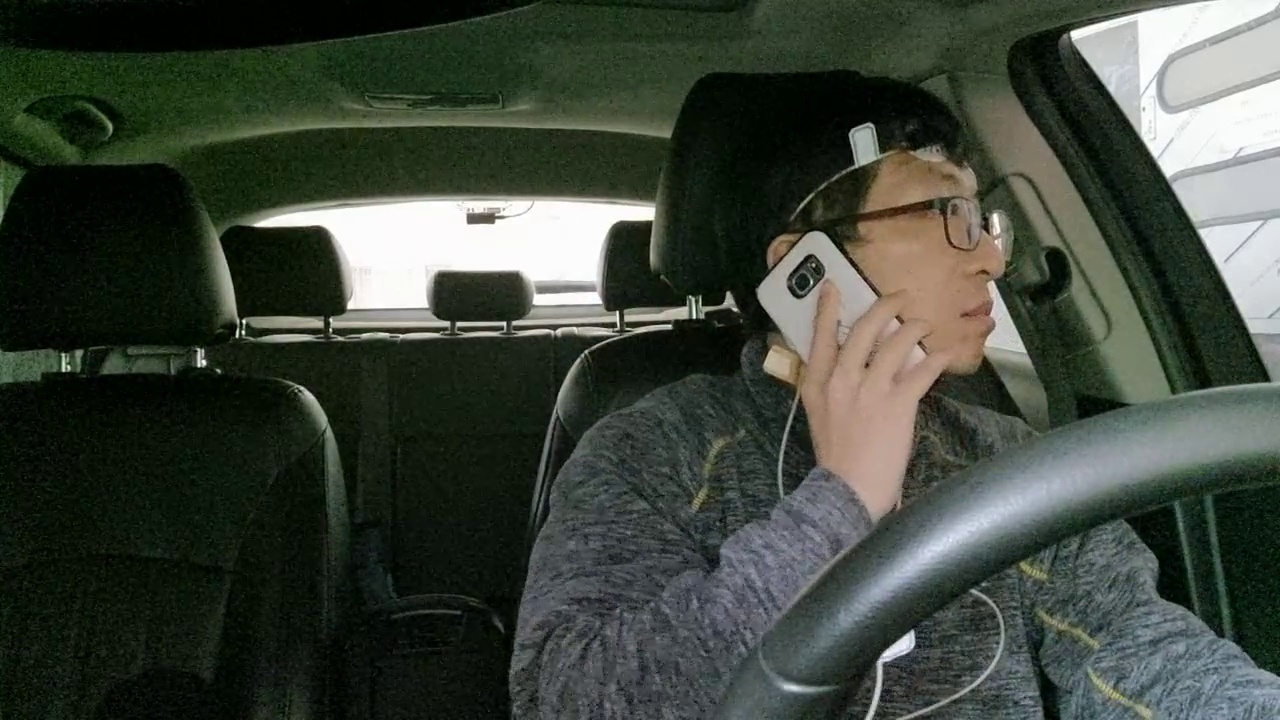phone: (730, 204, 960, 443)
